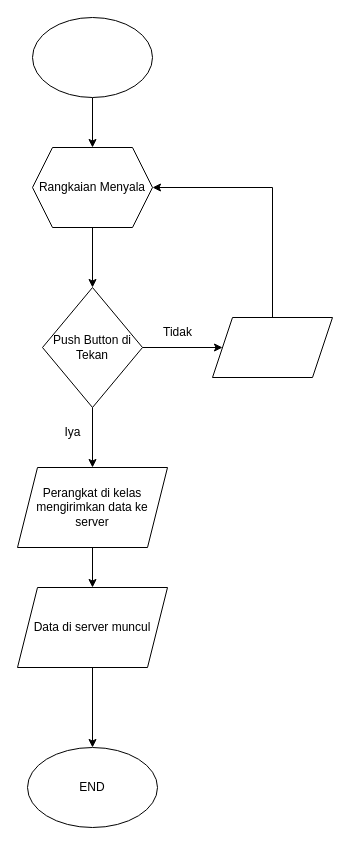
The diagram is 350 pixels wide and 845 high, and some of its shapes have lost their labels. Here are the shapes that lost their labels. From the top down, the centre of each, then its label:
At pixel 92 57: "START".
At pixel 272 347: "Perangkat tidak mengirimkan data".
